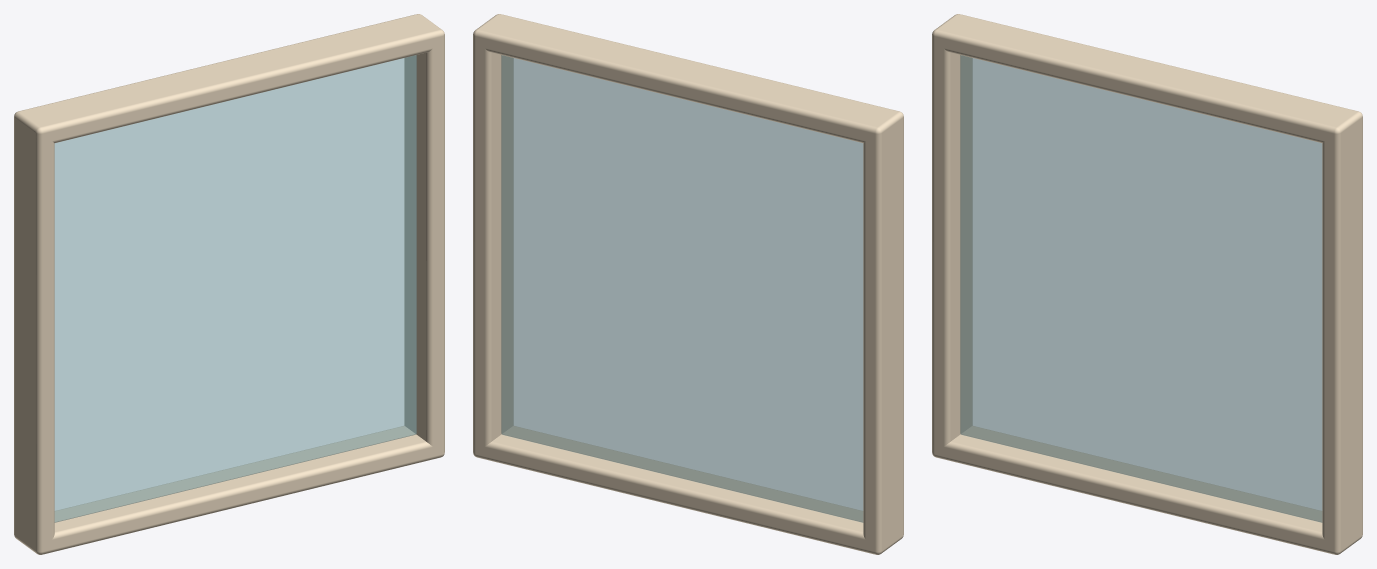
The model's file is window.glb.
The picture shows the model from 3 angles, left to right: view 1: azimuth 30°, elevation 25°; view 2: azimuth 150°, elevation 25°; view 3: azimuth 330°, elevation 25°; orthographic projection.
Parts seen in each view (by area): view 1: glass-pane, frame-left, frame-top, frame-right, frame-bottom; view 2: glass-pane, frame-left, frame-top, frame-right, frame-bottom; view 3: glass-pane, frame-right, frame-top, frame-left, frame-bottom.
Part boxes in pixels (left/top/right/bottom): glass-pane: left=54, top=55, right=416, bottom=522; frame-left: left=14, top=109, right=54, bottom=554; frame-top: left=14, top=14, right=444, bottom=143; frame-right: left=404, top=15, right=444, bottom=458; frame-bottom: left=16, top=426, right=444, bottom=554; glass-pane: left=501, top=55, right=863, bottom=522; frame-left: left=863, top=109, right=903, bottom=554; frame-top: left=473, top=14, right=903, bottom=143; frame-right: left=473, top=14, right=513, bottom=457; frame-bottom: left=473, top=426, right=903, bottom=554; glass-pane: left=960, top=55, right=1322, bottom=522; frame-right: left=1322, top=109, right=1362, bottom=554; frame-top: left=932, top=14, right=1362, bottom=143; frame-left: left=932, top=14, right=972, bottom=457; frame-bottom: left=932, top=426, right=1362, bottom=554.
Size of the model in its own units: 1.8 by 1.8 by 0.2.
